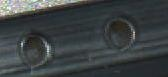joints: (16, 27, 52, 68), (102, 12, 137, 51)
